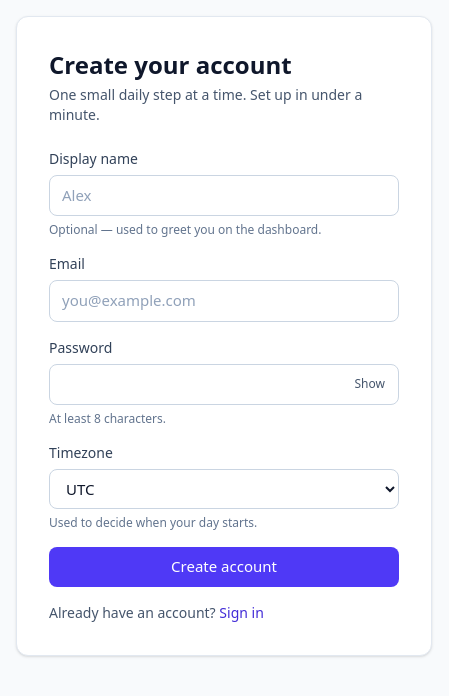
SignUp validation › shows format and length errors
Step 1. Type "not-an-email" into the field labelled "Email" → {"x": 224, "y": 301}, box 49,280 -> 399,322
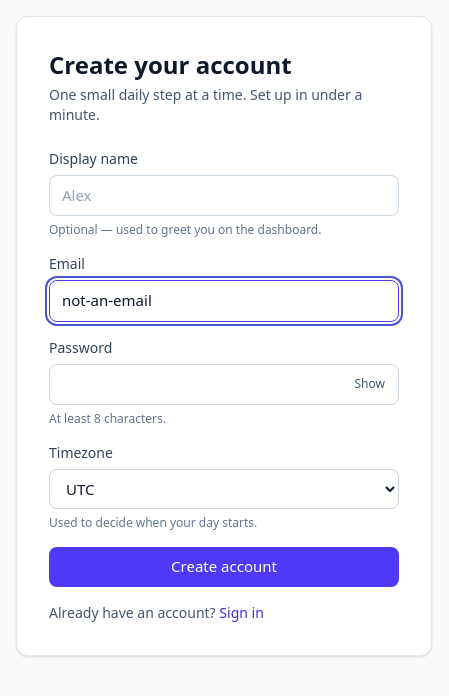
Step 2. Type "short" into the password field labelled "Password" → {"x": 224, "y": 384}, box 49,364 -> 399,405
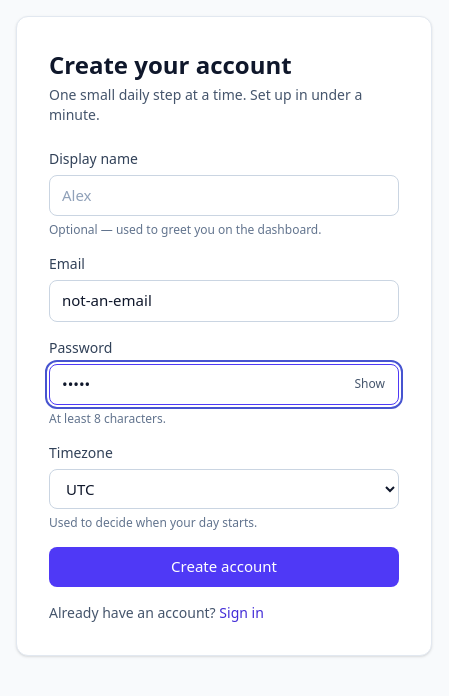
Step 3. Click the button "Create account" → {"x": 224, "y": 567}, box 49,547 -> 399,587
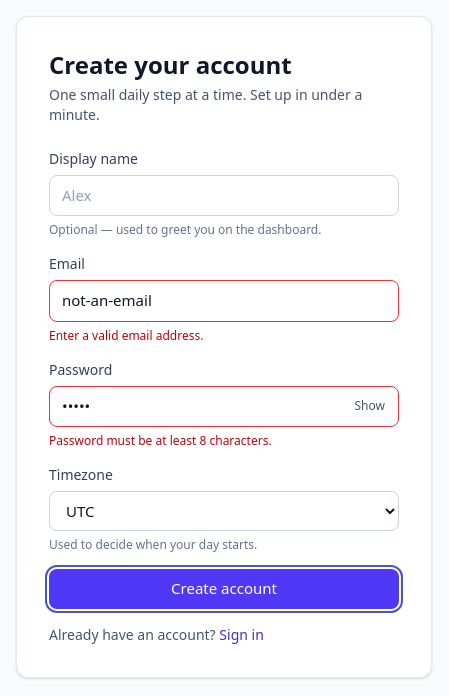
Expected: the text "Enter a valid email address." is shown, 49,326 -> 203,344
Expected: the text "Password must be at least 8 characters." is shown, 49,432 -> 272,449
